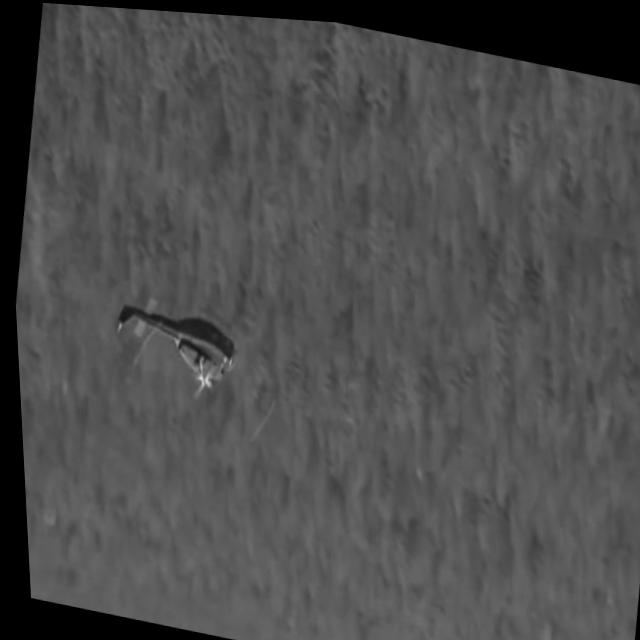helikopter: (85, 259, 271, 414)
